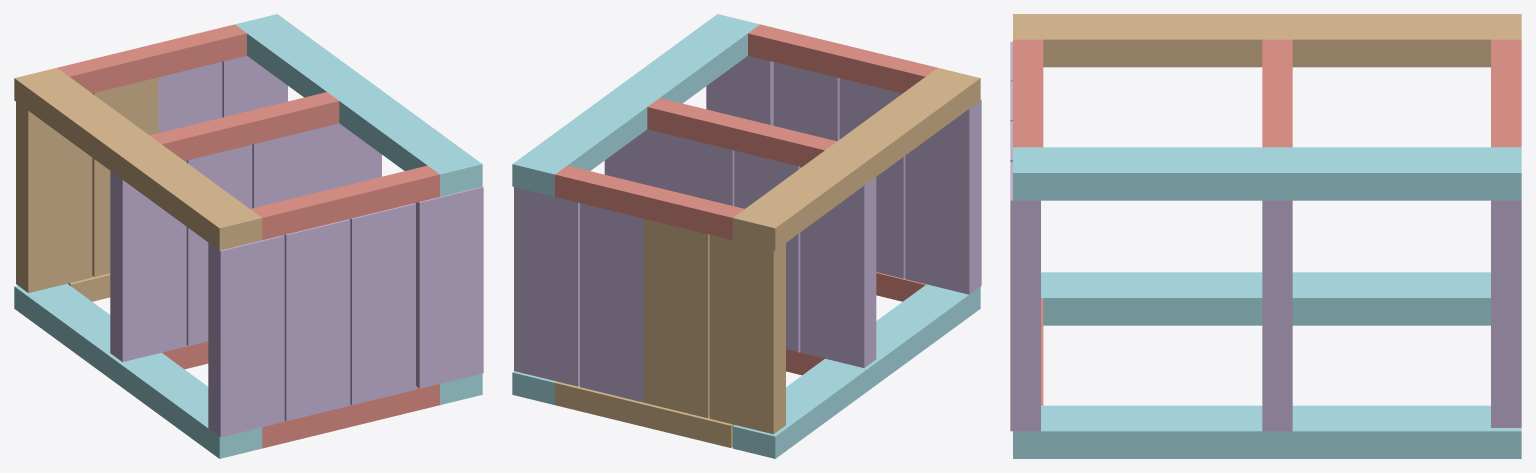
Rendered from tinker.obj.
3 views of the same model, side by side, from view 1: azimuth 30°, elevation 25°; view 2: azimuth 150°, elevation 25°; view 3: azimuth 270°, elevation 25° (orthographic). The views are drawn at different scales.
Visible parts, largest first — view 1: group_0_13877221, group_0_14860437, group_0_11593967, group_0_15308428; view 2: group_0_13877221, group_0_14860437, group_0_11593967, group_0_15308428; view 3: group_0_11593967, group_0_14860437, group_0_13877221, group_0_15308428.
Part boxes in pixels (left/top/right/bottom): group_0_13877221: left=110, top=56, right=483, bottom=437; group_0_14860437: left=14, top=68, right=262, bottom=301; group_0_11593967: left=14, top=14, right=482, bottom=458; group_0_15308428: left=57, top=24, right=439, bottom=448; group_0_13877221: left=514, top=56, right=981, bottom=402; group_0_14860437: left=555, top=68, right=980, bottom=447; group_0_11593967: left=512, top=14, right=980, bottom=458; group_0_15308428: left=555, top=24, right=937, bottom=375; group_0_11593967: left=1013, top=147, right=1521, bottom=458; group_0_14860437: left=1013, top=14, right=1521, bottom=67; group_0_13877221: left=1010, top=41, right=1521, bottom=431; group_0_15308428: left=1013, top=39, right=1521, bottom=405.
Size of the model in its own units: 148 by 124 by 201.
